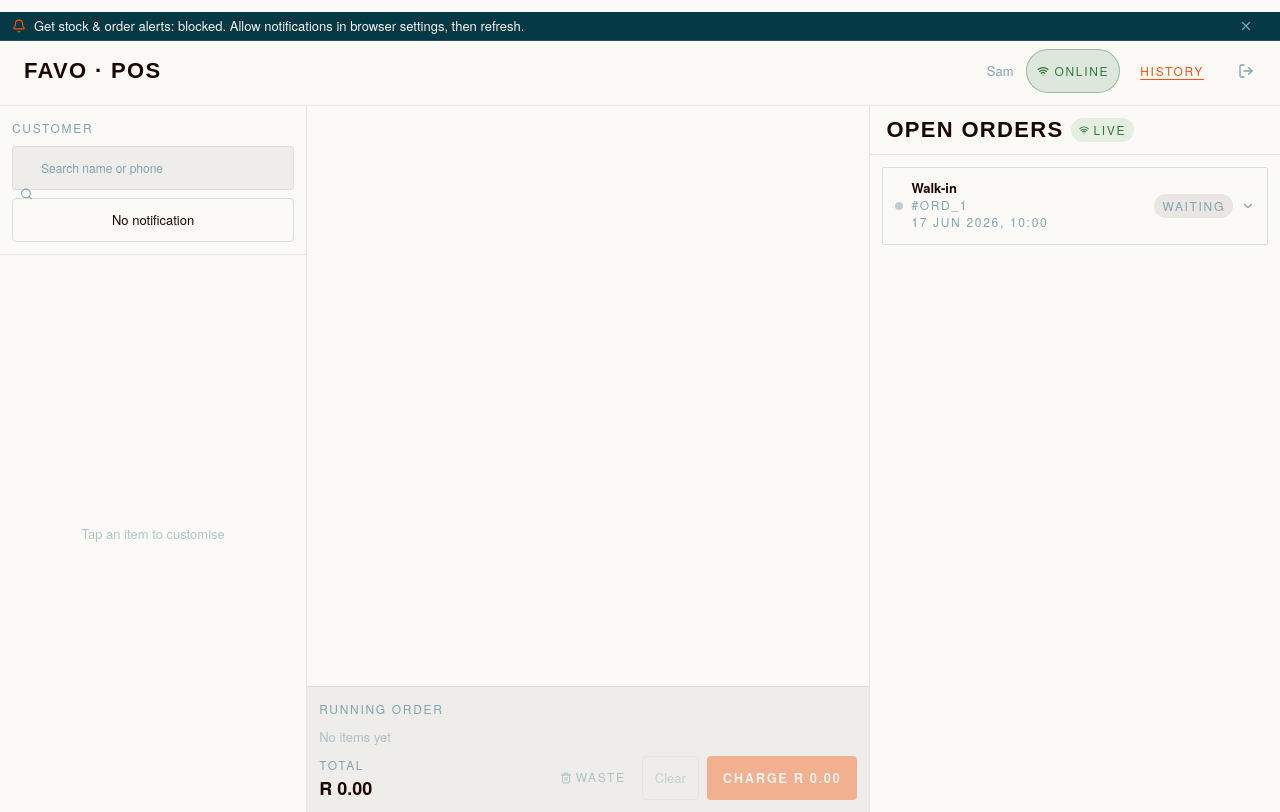
Scenario: queue payment gate (L01) › without Yoco configured, order can start without Take payment
Click the text "#ORD_1" at [940, 204], box [911,196,968,213]
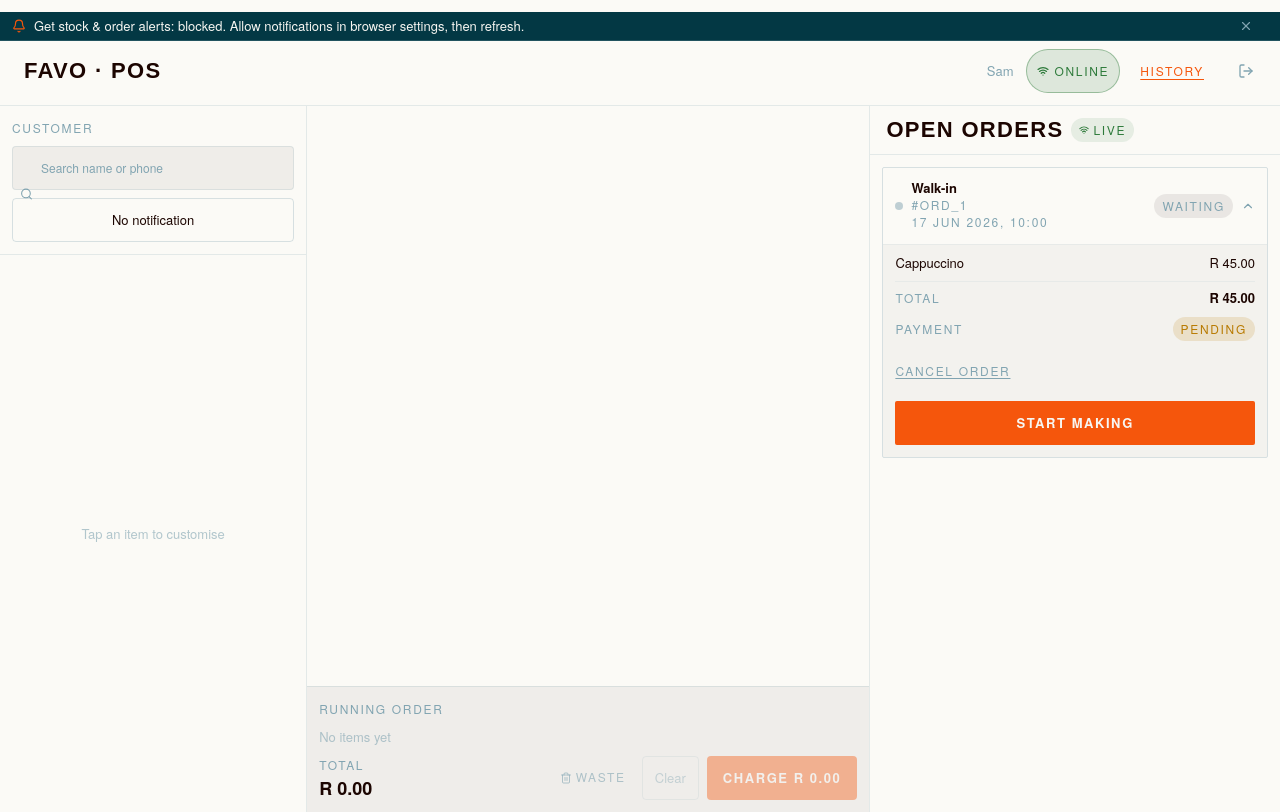
Check: the button "Start Making" is shown, box [895,401,1255,445]
